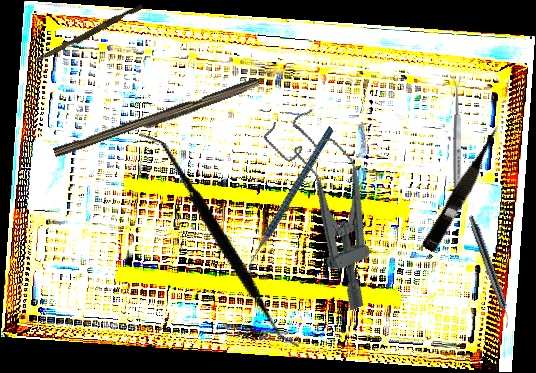Chopper: (207, 125, 375, 281)
Handpiece: (464, 214, 516, 329)
Micro Scissor: (420, 121, 509, 255)
Pusher: (30, 1, 144, 69)
Scalpel Handle: (52, 74, 262, 164)
Spatula Surgical: (85, 131, 353, 350)
Speculum: (259, 100, 406, 317)
Surgical Spoon: (453, 76, 462, 208)
